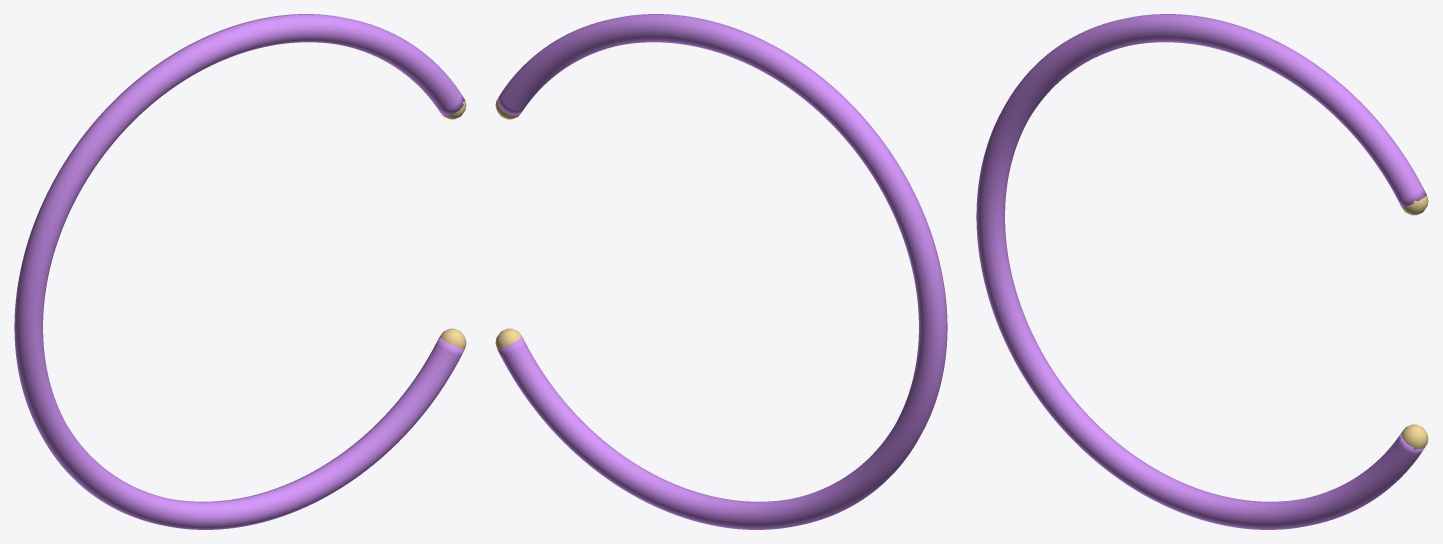
The model's file is grand-arc-CiEYi7KR.glb.
The picture shows the model from 3 angles, left to right: view 1: azimuth 30°, elevation 25°; view 2: azimuth 150°, elevation 25°; view 3: azimuth 330°, elevation 25°; orthographic projection.
Parts seen in each view (by area): view 1: R3D_grand-arc_Body_0; view 2: R3D_grand-arc_Body_0; view 3: R3D_grand-arc_Body_0.
Boxes of the visible parts, <box> form: R3D_grand-arc_Body_0: <box>14,14,464,529</box>; R3D_grand-arc_Body_0: <box>497,14,947,529</box>; R3D_grand-arc_Body_0: <box>976,14,1426,529</box>.
Bounding box in the file's own units: 3.26 × 3.48 × 0.18.
